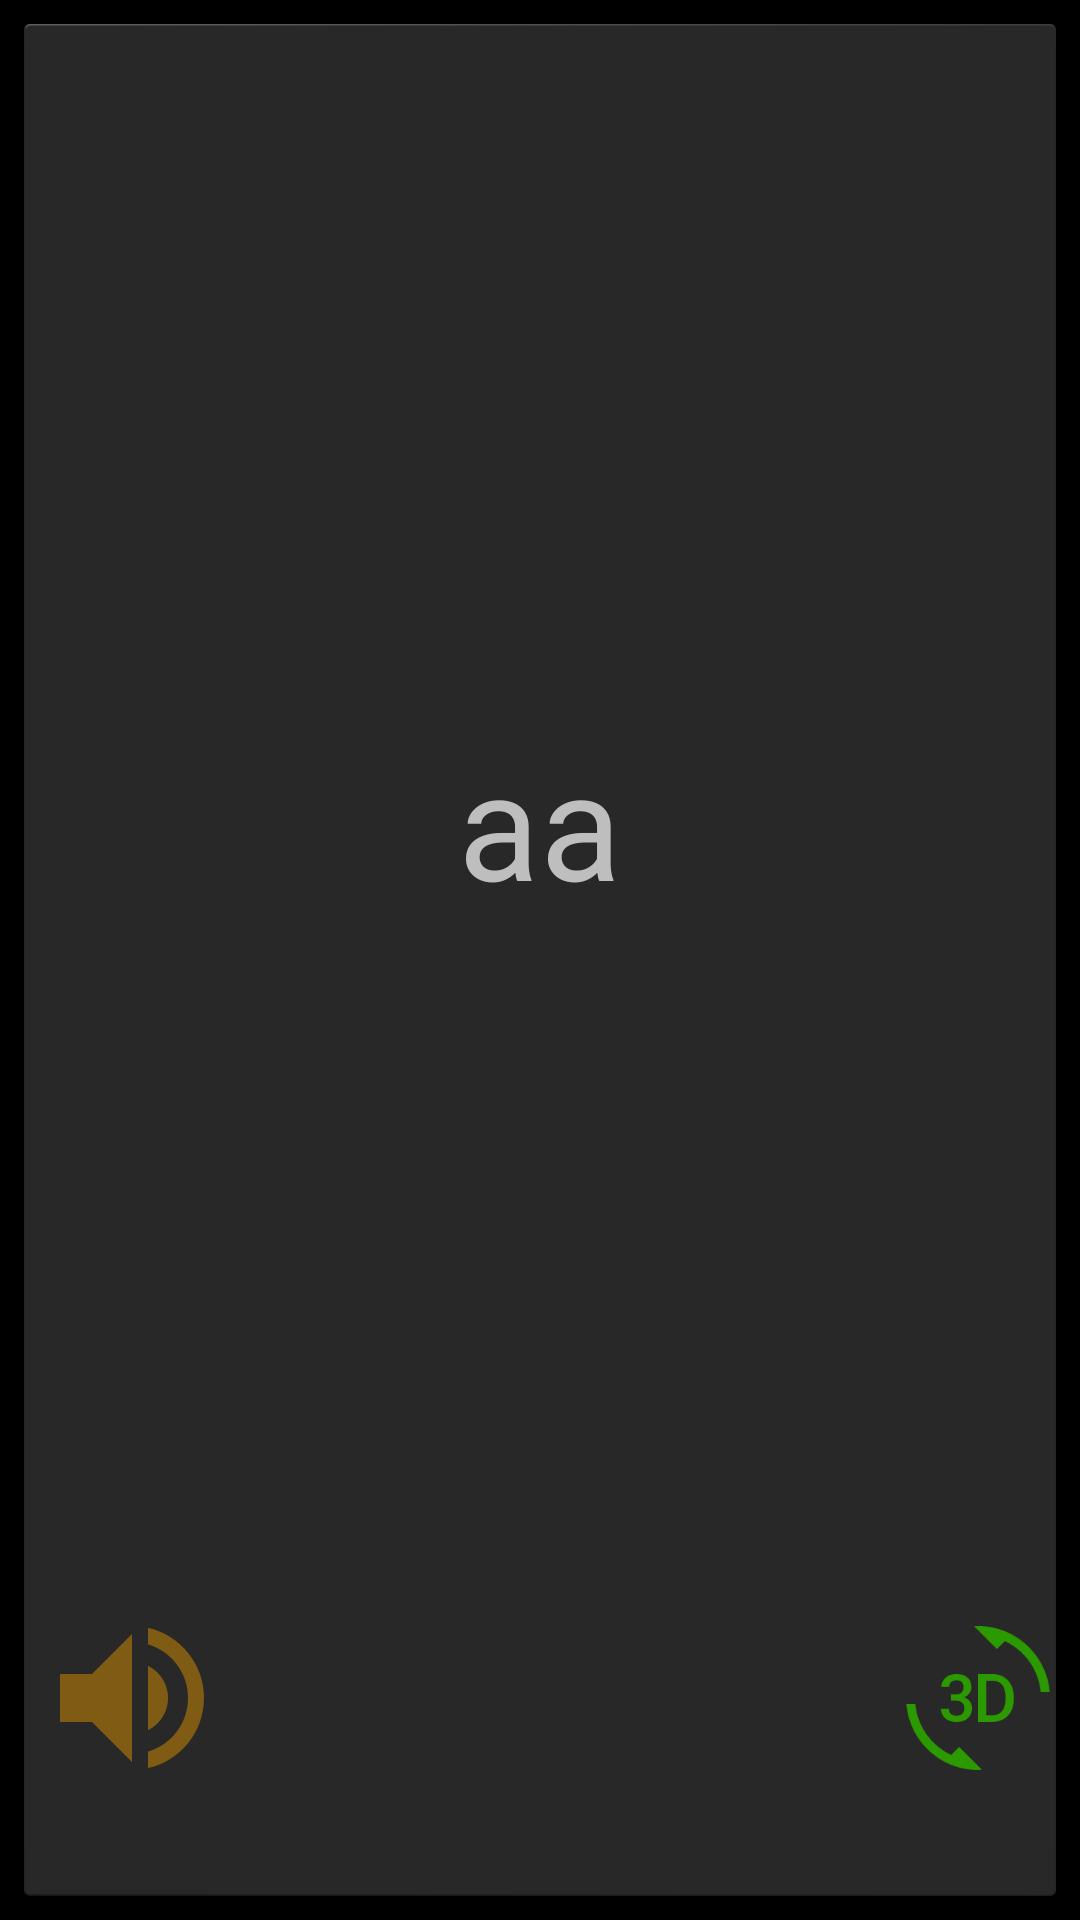

Screen size 1080 x 1920. Icon name, then its box in pixels as (x1, y1, x2, y2):
flip: (906, 1626, 1050, 1770)
speak: (60, 1628, 204, 1768)
